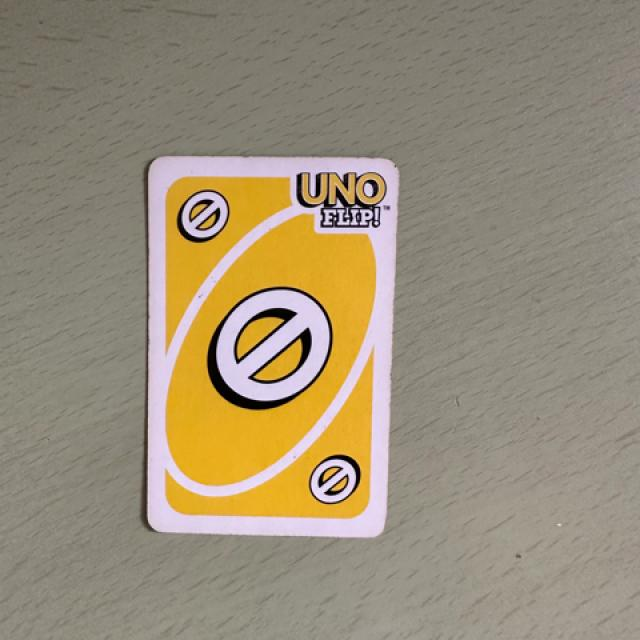lyellowskip-20: (159, 171, 252, 256)
